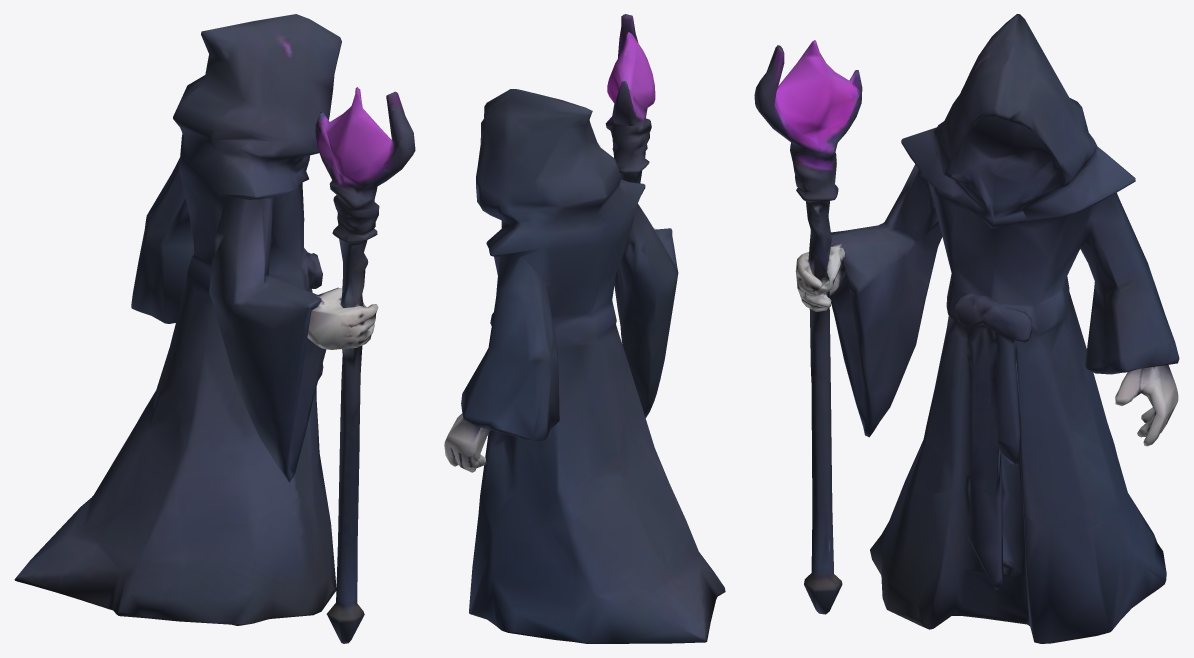
File: dark_cultist.glb
3 renders of one model, left to right at view 1: azimuth 30°, elevation 25°; view 2: azimuth 150°, elevation 25°; view 3: azimuth 270°, elevation 25°, orthographic. The views are drawn at different scales.
Parts seen in each view (by area): view 1: tripo_node_b7482a32-d888-4ab2-a54c-840e1120fe5b; view 2: tripo_node_b7482a32-d888-4ab2-a54c-840e1120fe5b; view 3: tripo_node_b7482a32-d888-4ab2-a54c-840e1120fe5b.
Boxes of the visible parts, <box> form: tripo_node_b7482a32-d888-4ab2-a54c-840e1120fe5b: <box>14,14,415,643</box>; tripo_node_b7482a32-d888-4ab2-a54c-840e1120fe5b: <box>444,14,725,643</box>; tripo_node_b7482a32-d888-4ab2-a54c-840e1120fe5b: <box>754,14,1179,643</box>.
Size of the model in its own units: 0.505 by 0.9405 by 0.6244.
1 material, 1 textured.
